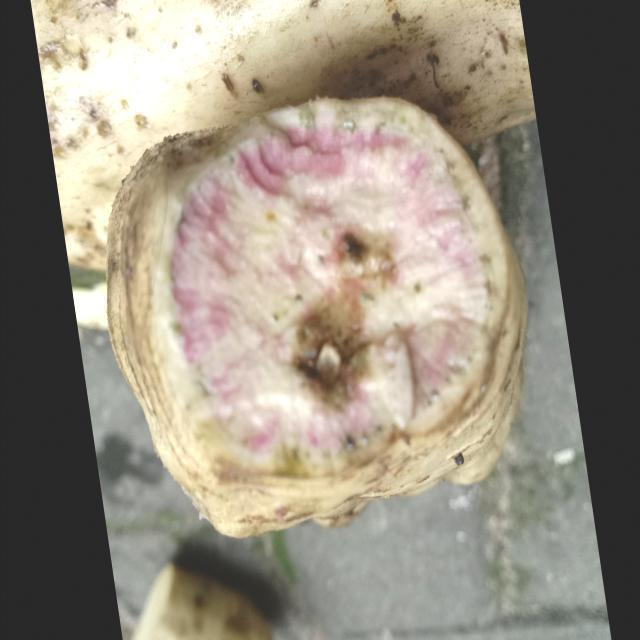Sick Sweet Potato_Tuber Rot: (170, 102, 489, 458)
